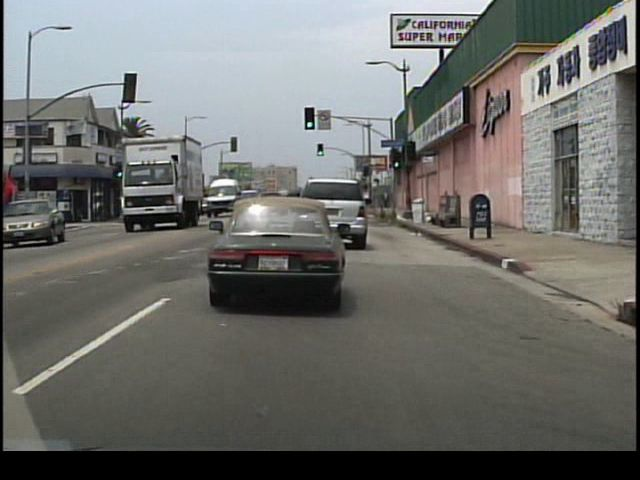person: (41, 199, 53, 230), (380, 188, 390, 209)
